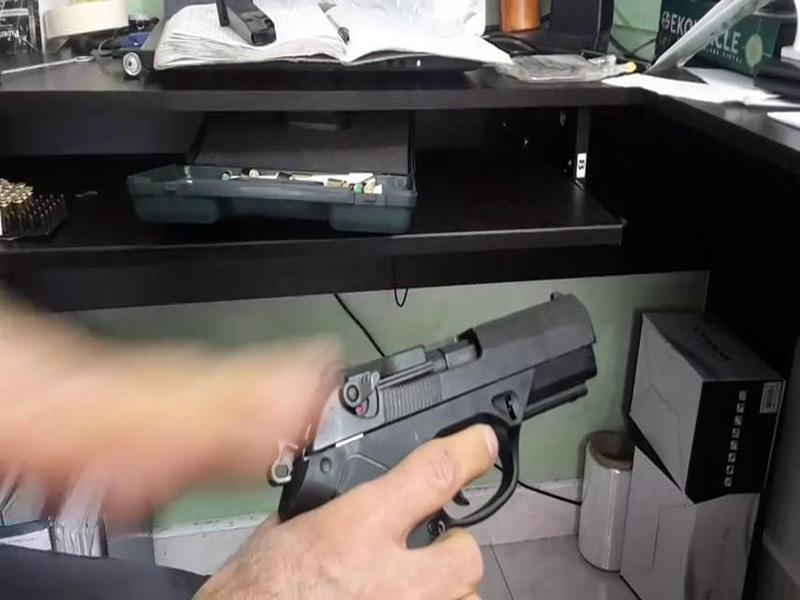Pistola: (257, 289, 610, 539)
